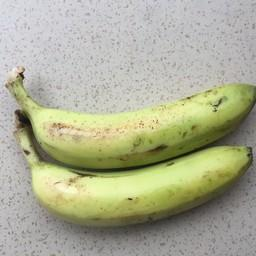Good_banana: (7, 147, 256, 235), (12, 97, 256, 158)
